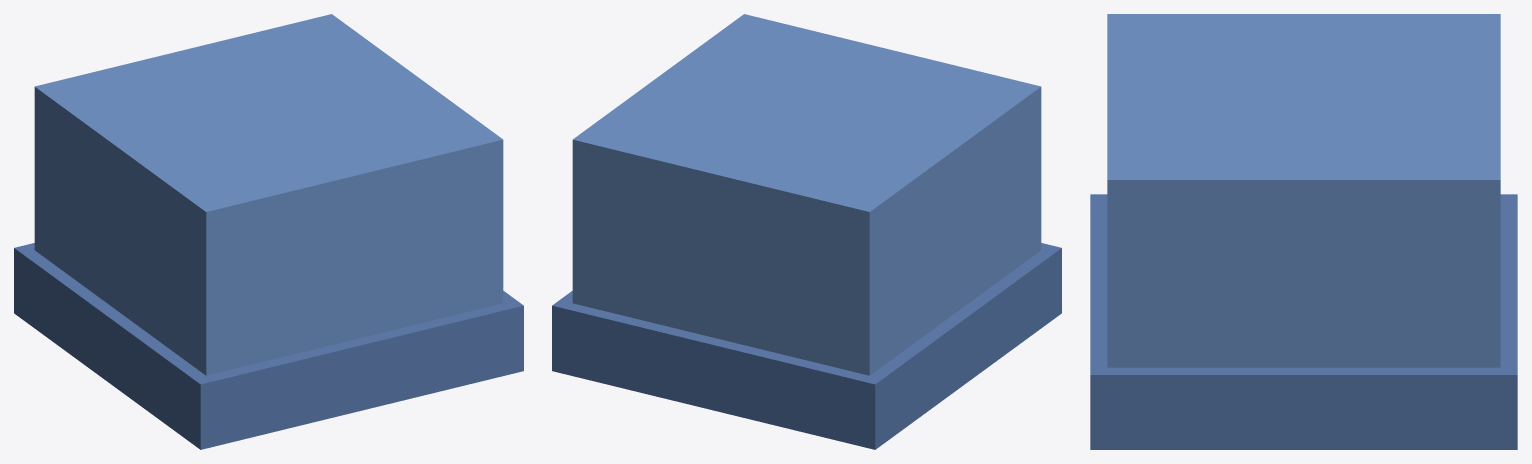
File: macacao_manga_inf.glb
The picture shows the model from 3 angles, left to right: view 1: azimuth 30°, elevation 25°; view 2: azimuth 150°, elevation 25°; view 3: azimuth 270°, elevation 25°; orthographic projection. The views are drawn at different scales.
Visible parts, largest first — view 1: macacao_manga_inf; view 2: macacao_manga_inf; view 3: macacao_manga_inf.
Boxes of the visible parts, box(x1,y1,x2,y2) form: macacao_manga_inf: box(14, 14, 523, 449); macacao_manga_inf: box(552, 14, 1061, 449); macacao_manga_inf: box(1090, 14, 1517, 449).
Bounding box in the file's own units: 0.31 × 0.21 × 0.31.
